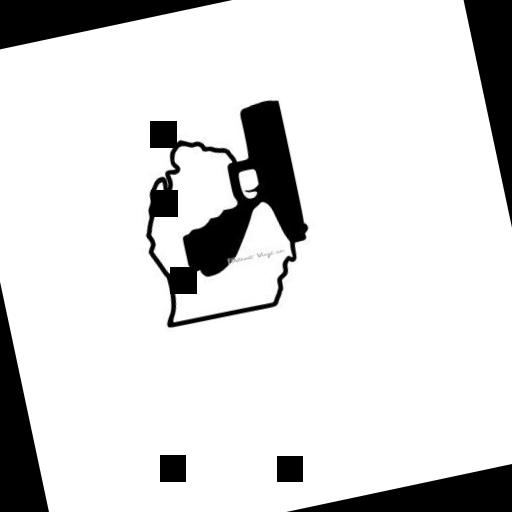Handgun: (157, 95, 315, 278)
